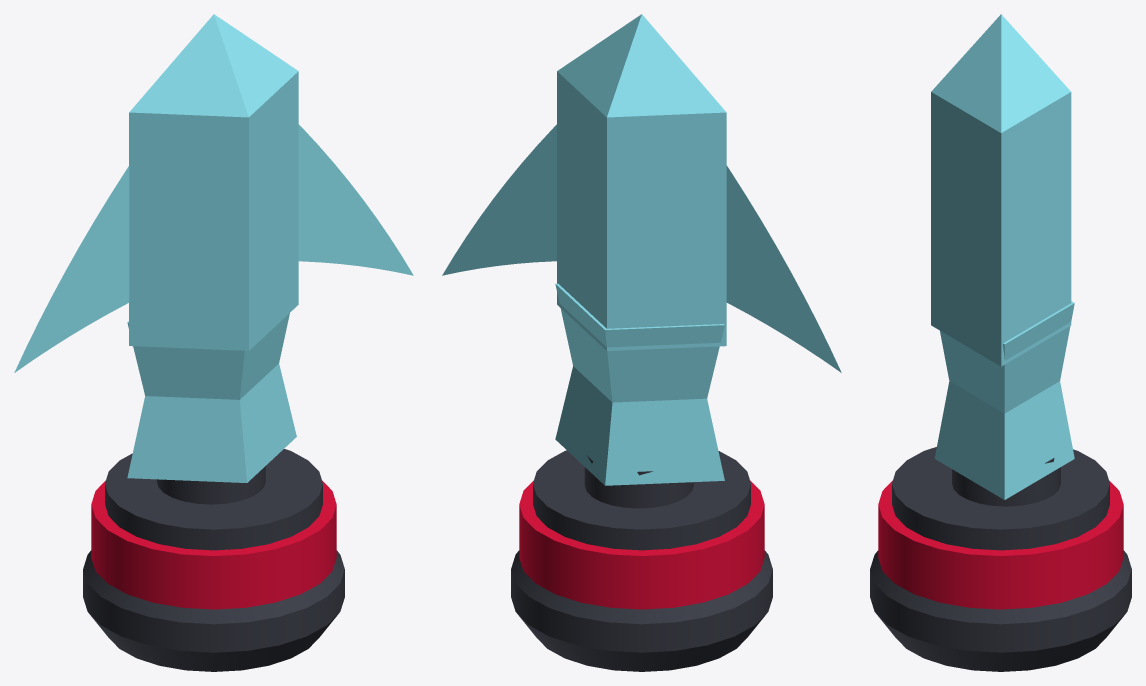
Rendered from tower_wings_stone.obj.
The picture shows the model from 3 angles, left to right: view 1: azimuth 30°, elevation 25°; view 2: azimuth 150°, elevation 25°; view 3: azimuth 270°, elevation 25°; orthographic projection.
Visible parts, largest first — view 1: mergedBlocks; view 2: mergedBlocks; view 3: mergedBlocks.
Part boxes in pixels (x1=…): mergedBlocks: x1=14, y1=14, x2=413, y2=671; mergedBlocks: x1=442, y1=14, x2=841, y2=671; mergedBlocks: x1=870, y1=14, x2=1131, y2=671.
Size of the model in its own units: 1.69 by 2.48 by 0.96.
